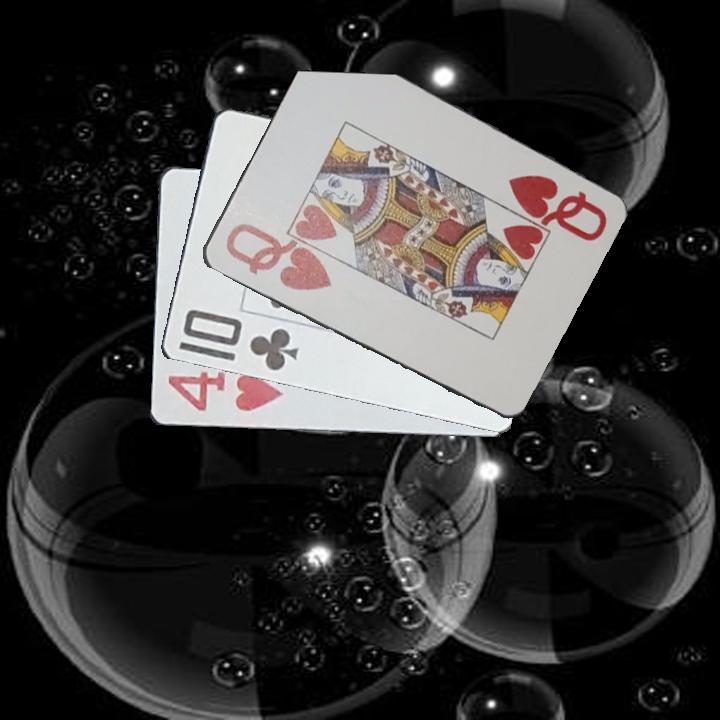4h: (163, 368, 286, 415)
Qh: (221, 219, 334, 294), (504, 171, 609, 245)
Tc: (178, 306, 301, 374)
